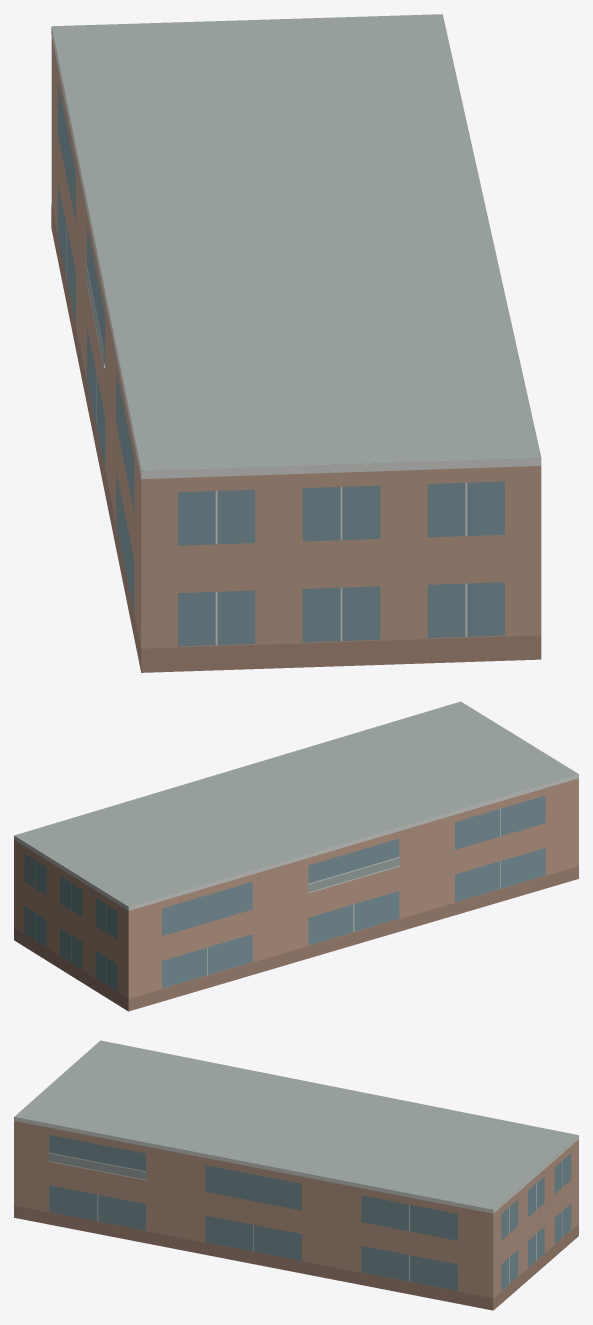
The model's file is survey-upis-32679217.glb.
The picture shows the model from 3 angles, top to bottom: view 1: azimuth 30°, elevation 25°; view 2: azimuth 150°, elevation 25°; view 3: azimuth 270°, elevation 25°; orthographic projection. The views are drawn at different scales.
Visible parts, largest first — view 1: survey-upis-32679217.tmp; view 2: survey-upis-32679217.tmp; view 3: survey-upis-32679217.tmp.
Boxes of the visible parts, bbox=[...] form: survey-upis-32679217.tmp: bbox=[51, 14, 541, 672]; survey-upis-32679217.tmp: bbox=[14, 701, 578, 1011]; survey-upis-32679217.tmp: bbox=[14, 1040, 578, 1310].
Bounding box in the file's own units: 21.99 × 6.1 × 30.98.
